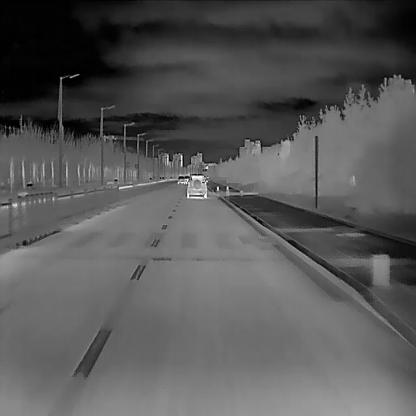car: (186, 174, 207, 198), (176, 174, 184, 184), (184, 174, 189, 184)
